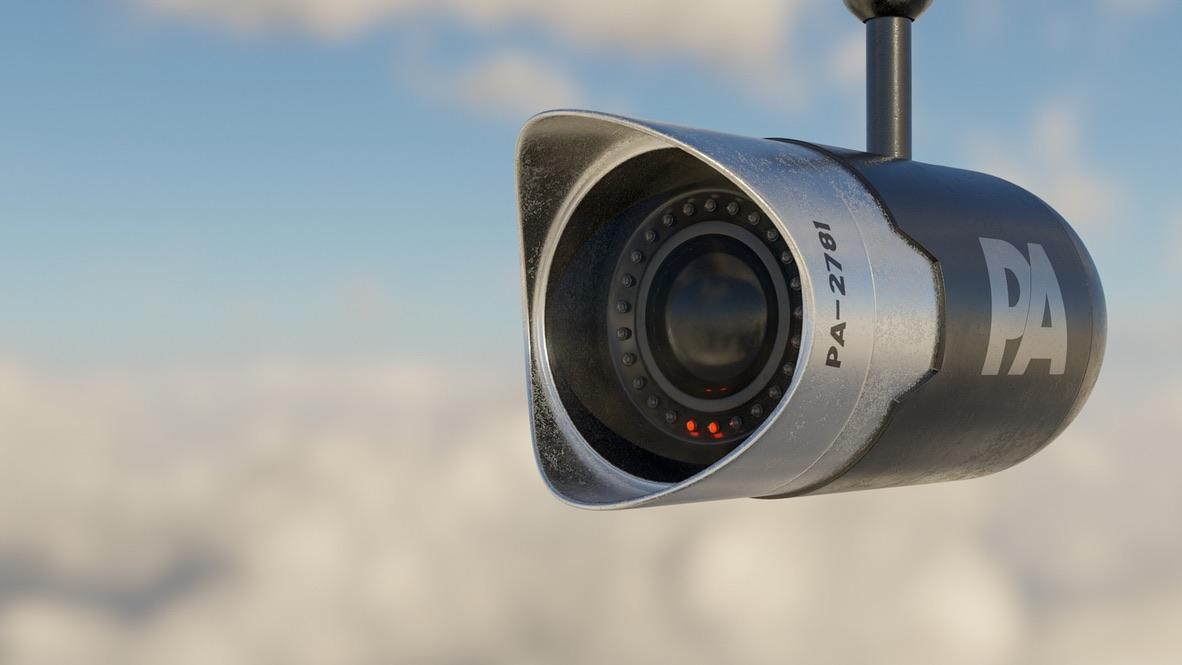tutu: (509, 108, 1118, 516)
